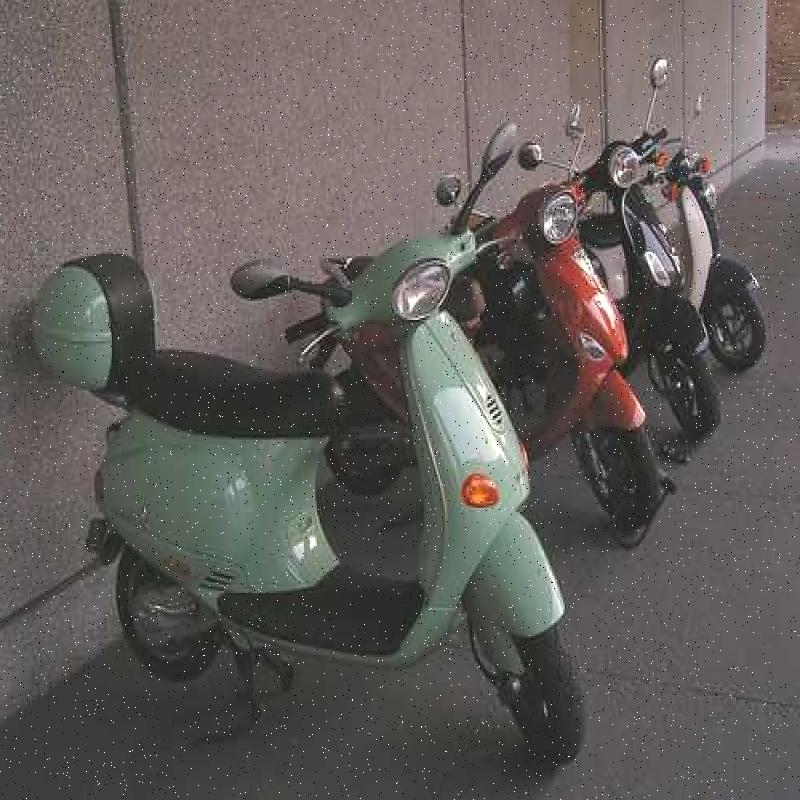bike: (47, 195, 565, 756), (348, 139, 634, 541), (568, 43, 733, 414)
